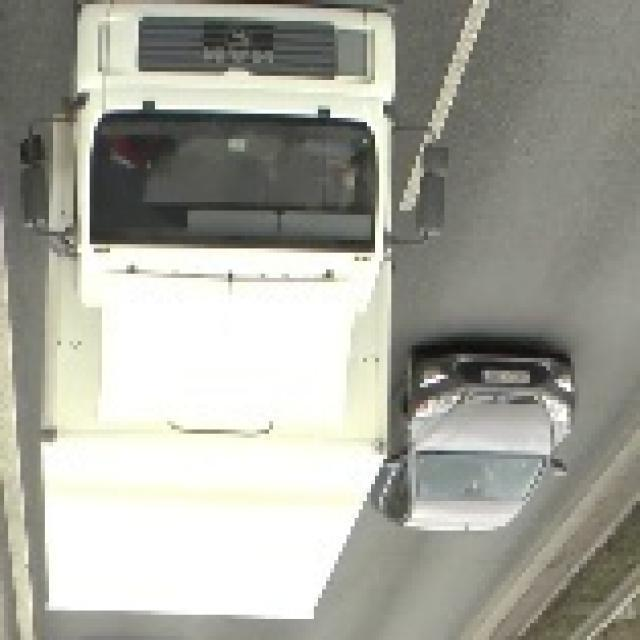Truck: (49, 5, 452, 628)
